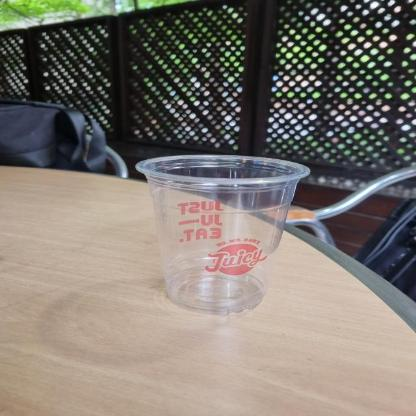Plastic Cup: (128, 150, 314, 320)
